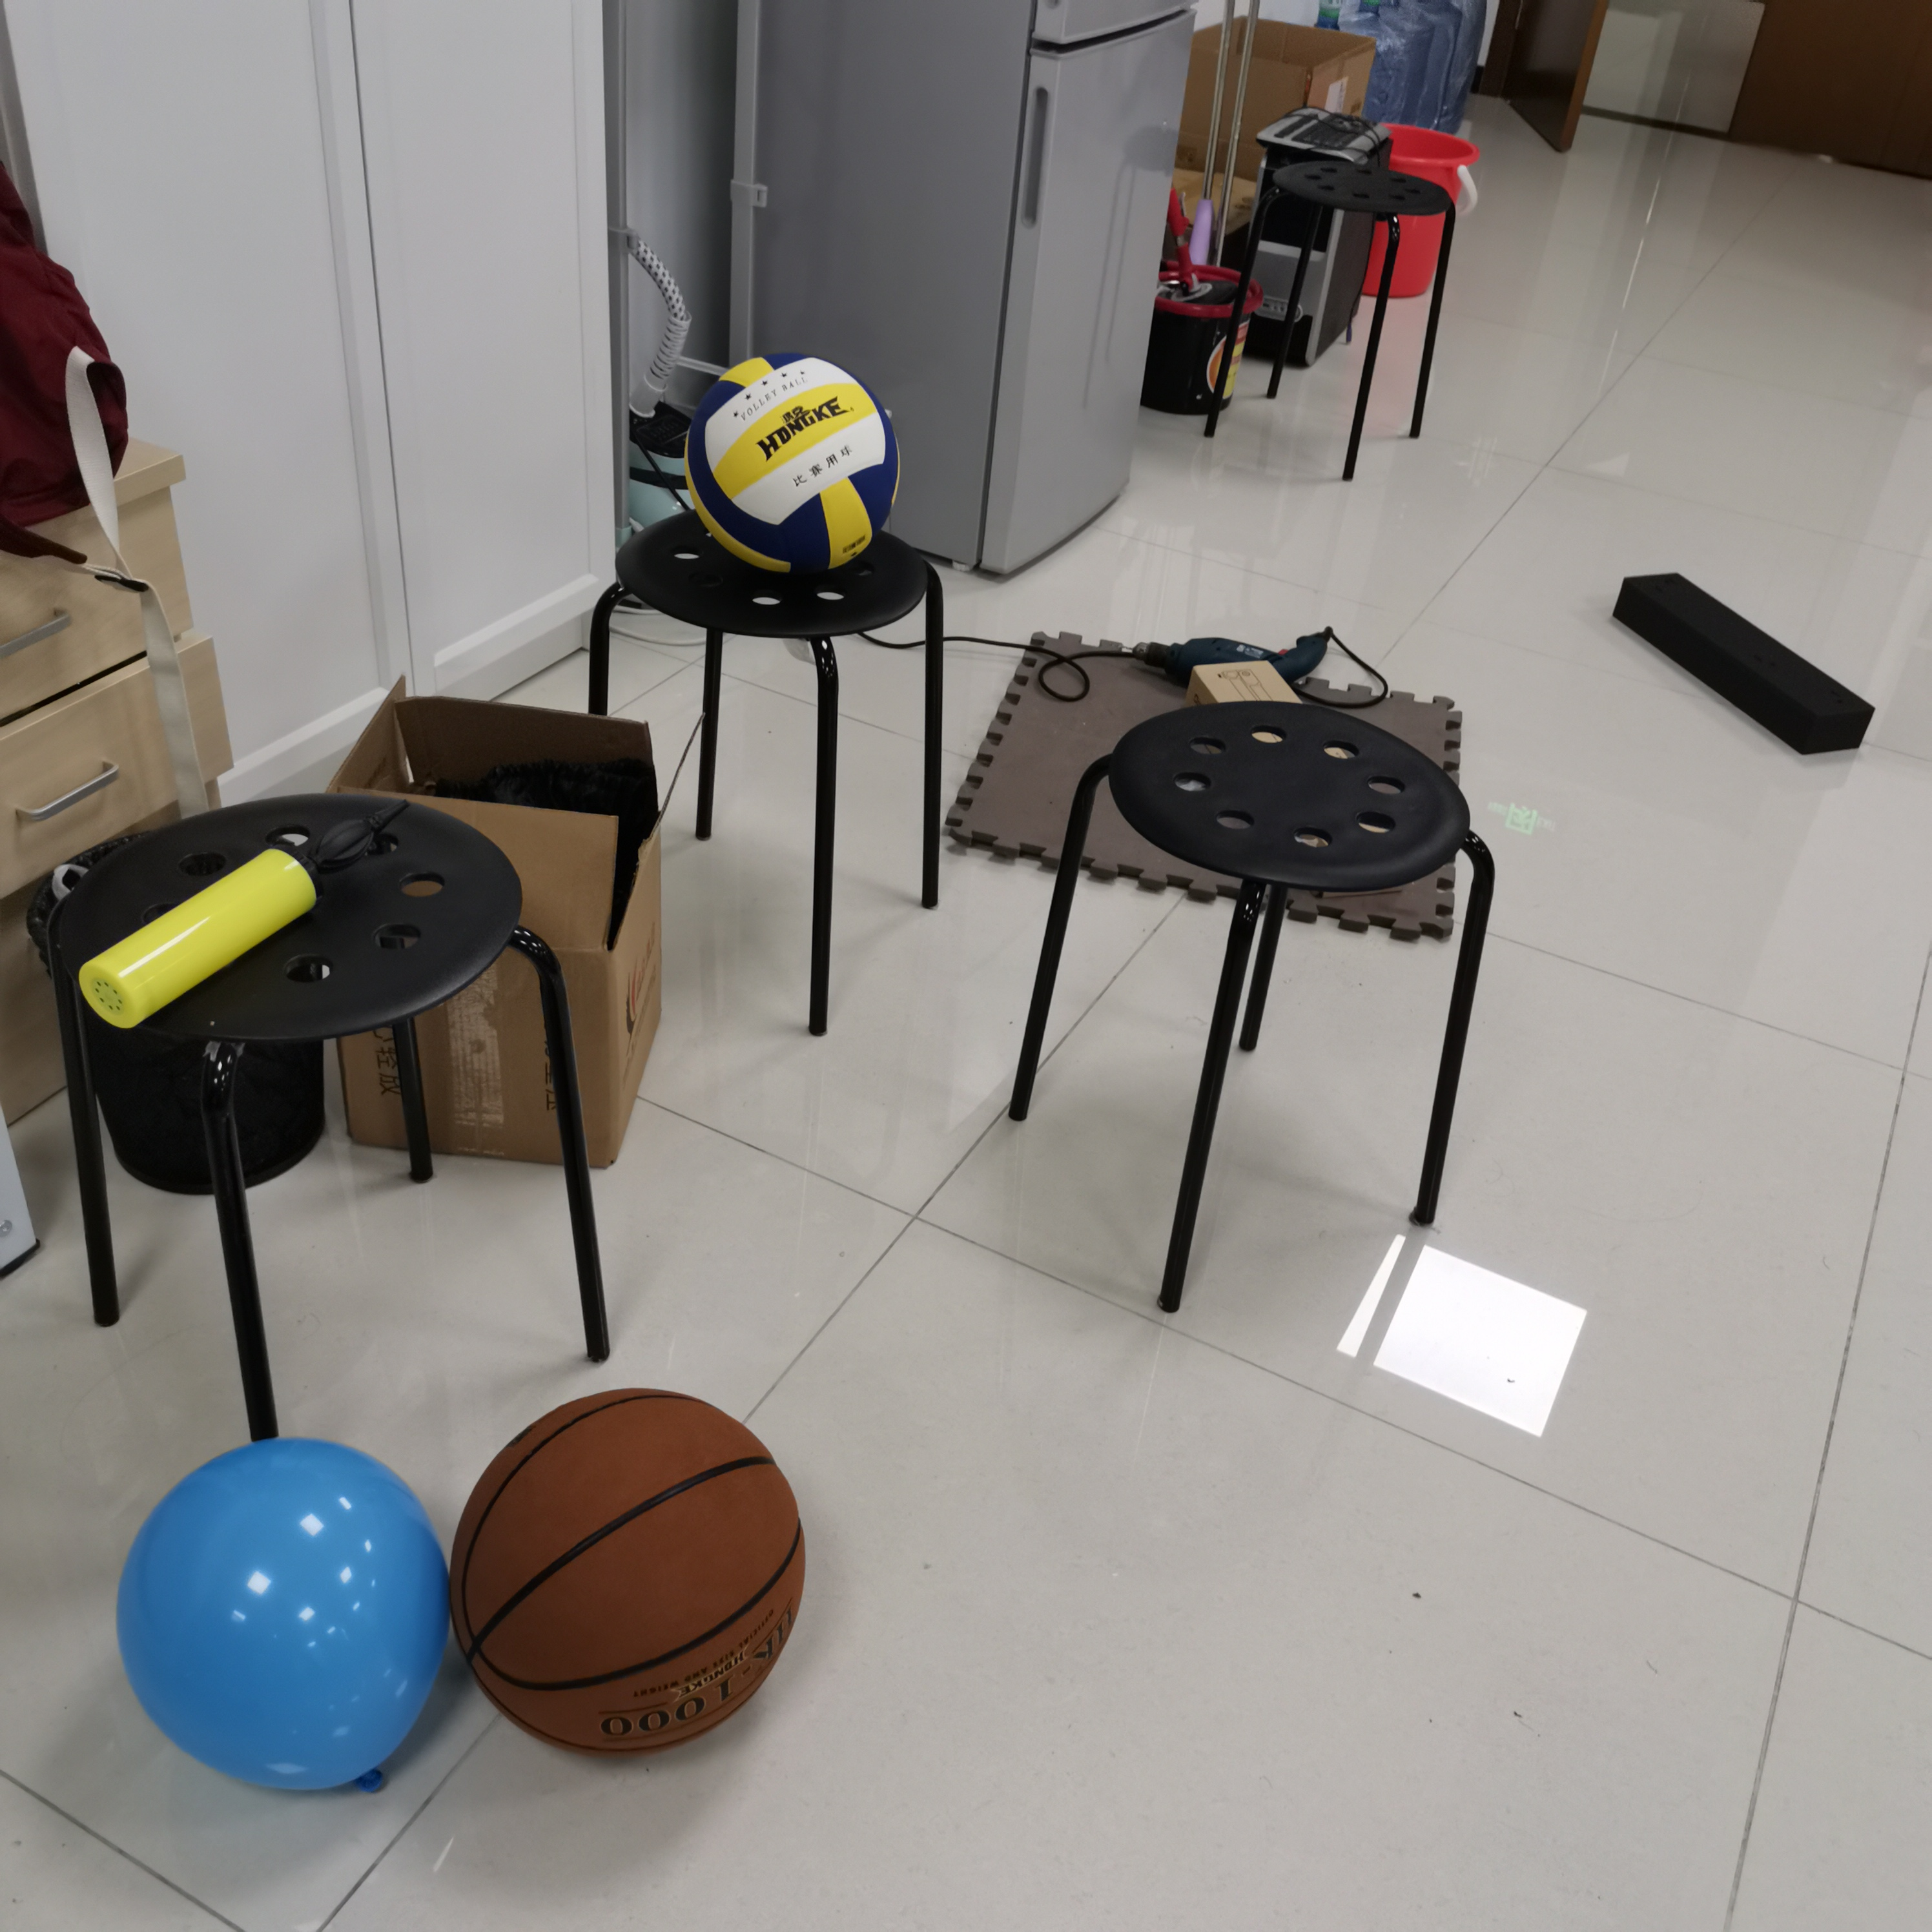balloon: (119, 1438, 448, 1792)
basketball: (446, 1385, 810, 1759)
volleyball: (681, 352, 904, 573)
